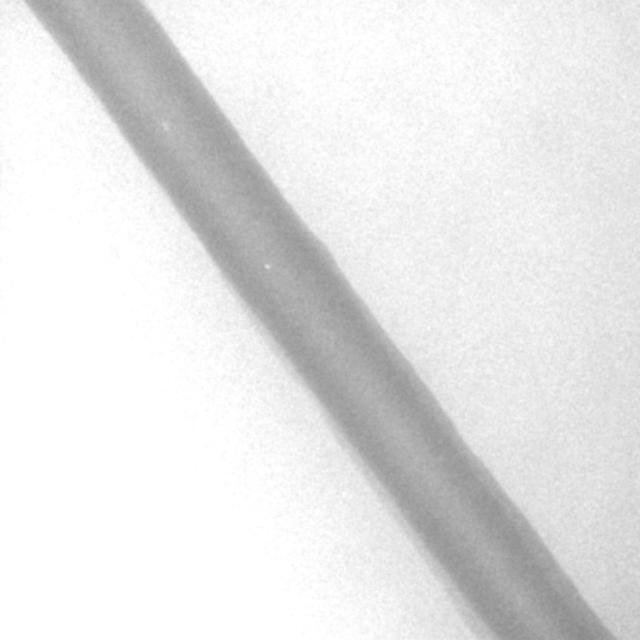air hole: (160, 118, 171, 133), (262, 261, 272, 273)
